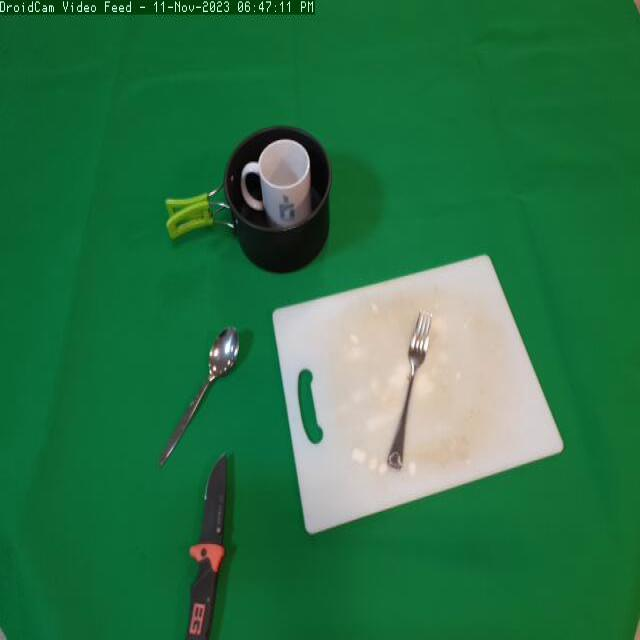cup: (240, 135, 318, 230)
cutting board: (265, 247, 575, 555)
fork: (380, 299, 445, 475)
knife: (169, 445, 252, 640)
pot: (163, 109, 348, 289)
spoon: (152, 316, 244, 470)
